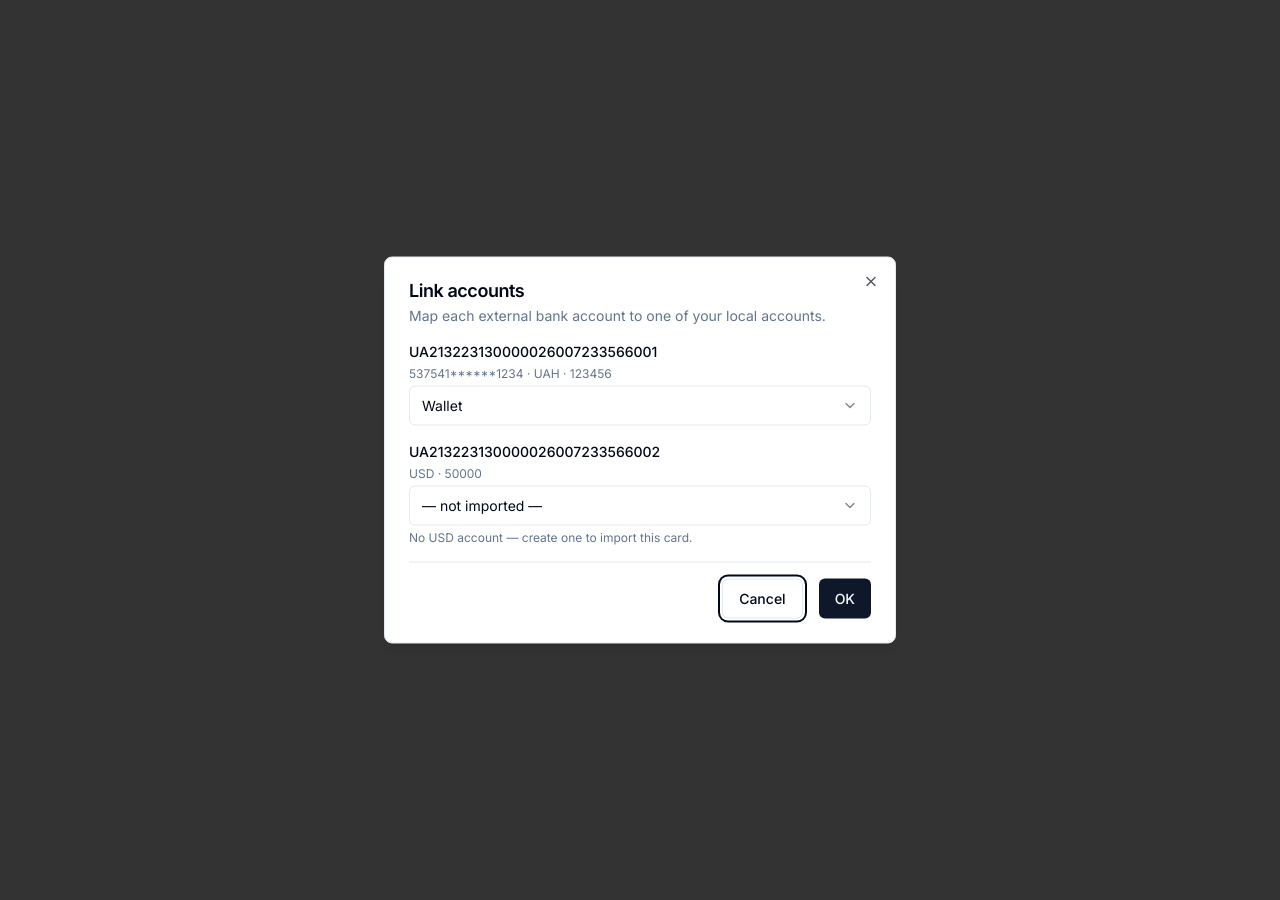
Test: LinkAccountsDialog › keeps a currently-mapped non-bank account selectable in its own row
The image size is (1280, 900).
# …and remains selectable within its own row, alongside the bank account.
Click the dropdown named "UA213223130000026007233566001" at (442,405), box [409,386,871,426]
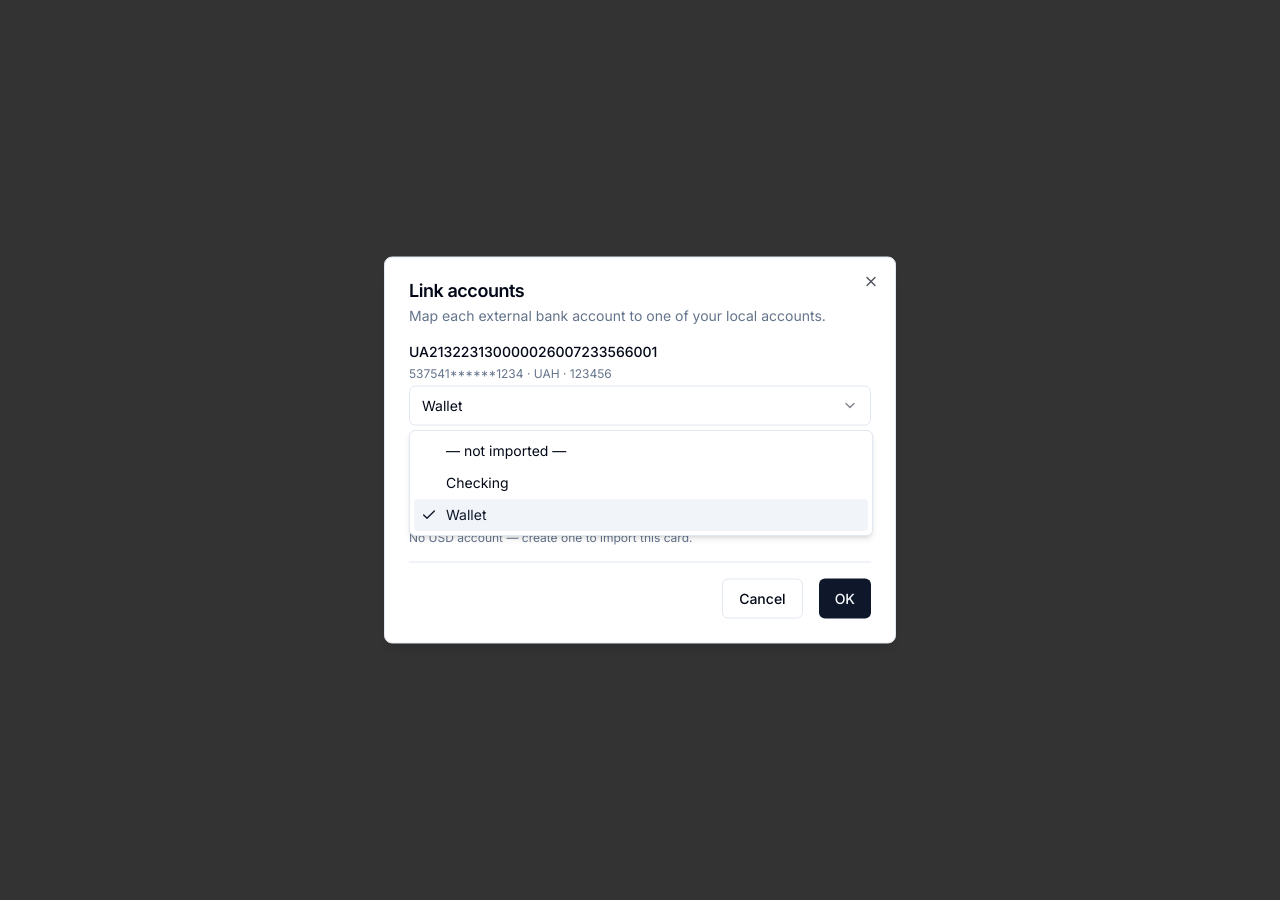
Check: the option "Wallet" is shown, box [414,499,868,531]
Check: the option "Checking" is shown, box [446,474,509,491]
